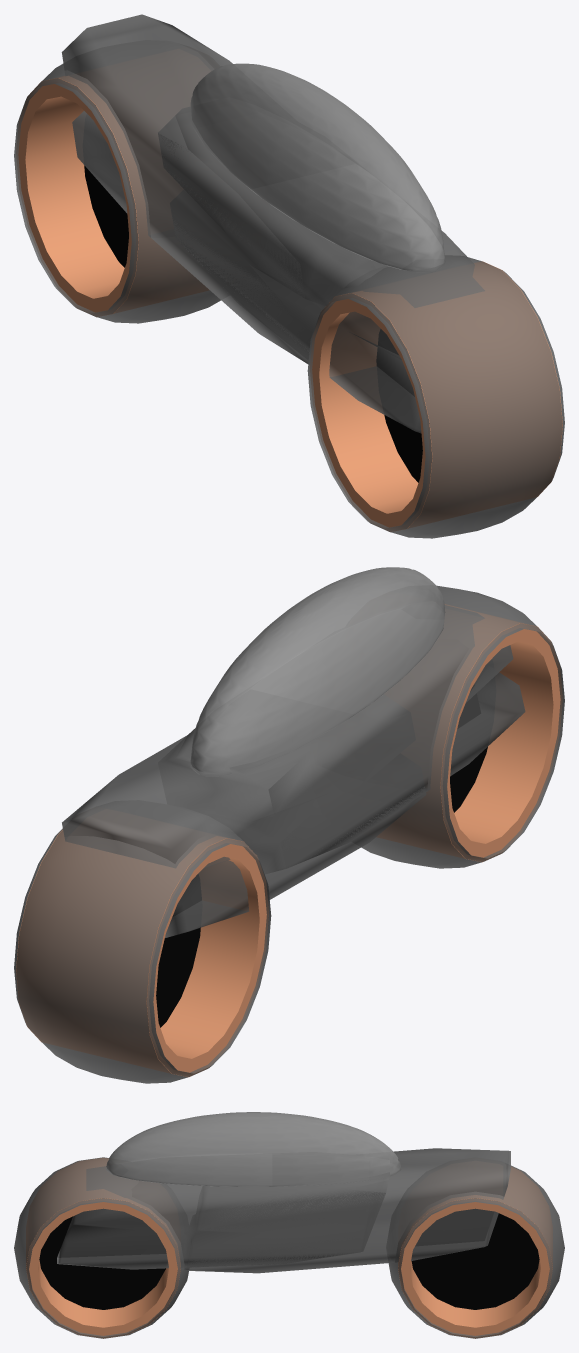
The model's file is tronBikefbx.fbx.
3 renders of one model, top to bottom at view 1: azimuth 30°, elevation 25°; view 2: azimuth 150°, elevation 25°; view 3: azimuth 270°, elevation 25°, orthographic. The views are drawn at different scales.
Parts seen in each view (by area): view 1: polySurface4; view 2: polySurface4; view 3: polySurface4.
Boxes of the visible parts, <box> form: polySurface4: <box>14,14,564,538</box>; polySurface4: <box>14,567,564,1083</box>; polySurface4: <box>14,1112,564,1338</box>.
Size of the model in its own units: 1.71 by 3.97 by 9.23.
